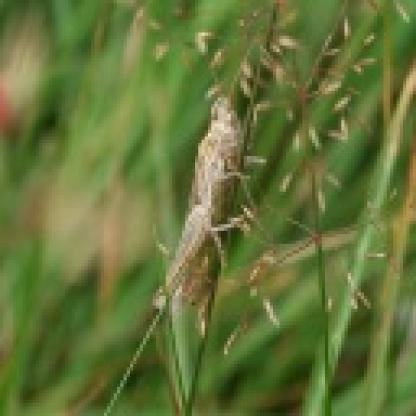grasshopper: (144, 94, 246, 332)
